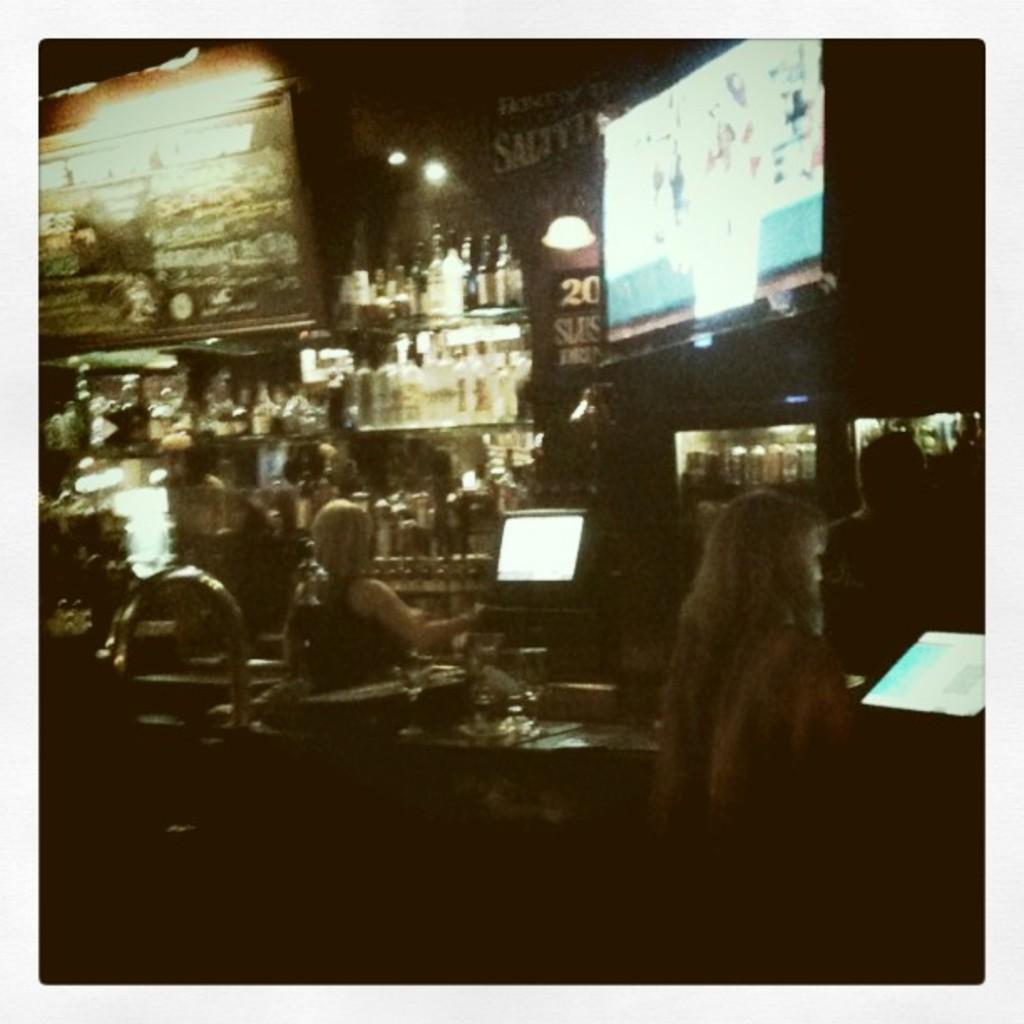Sem Máscara: (798, 527, 828, 604)
